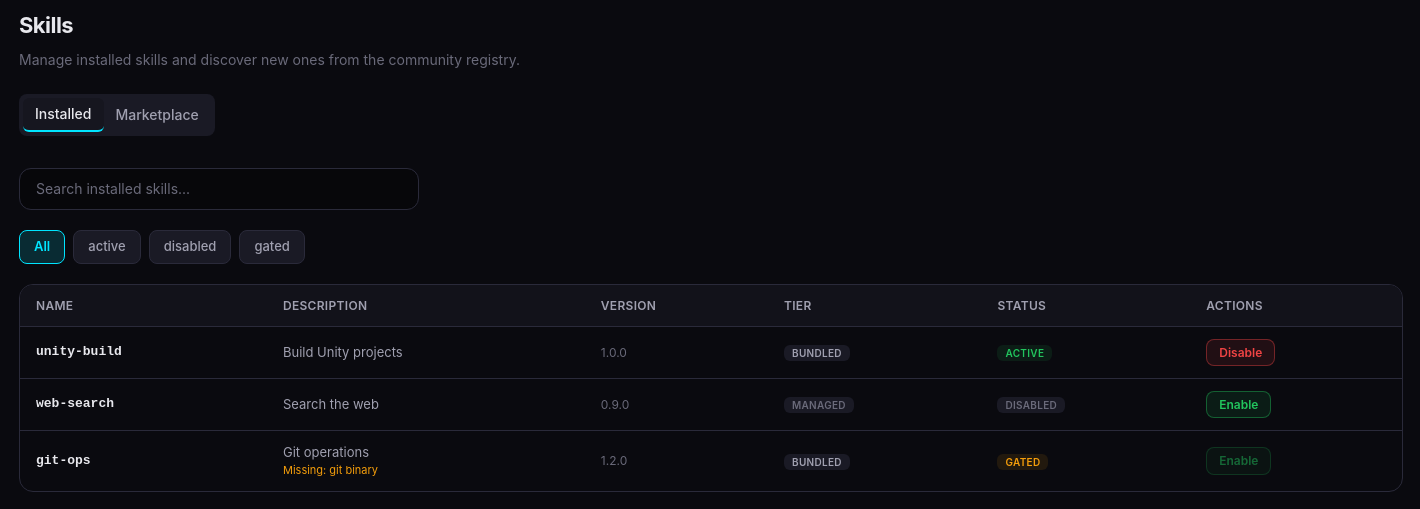
SkillsPage › shows "no match" message when filter yields no results
The image size is (1420, 509).
In the field with placeholder "Search installed skills...": coordinates (219, 189) [19,168,419,210], type "xyznonexistent"
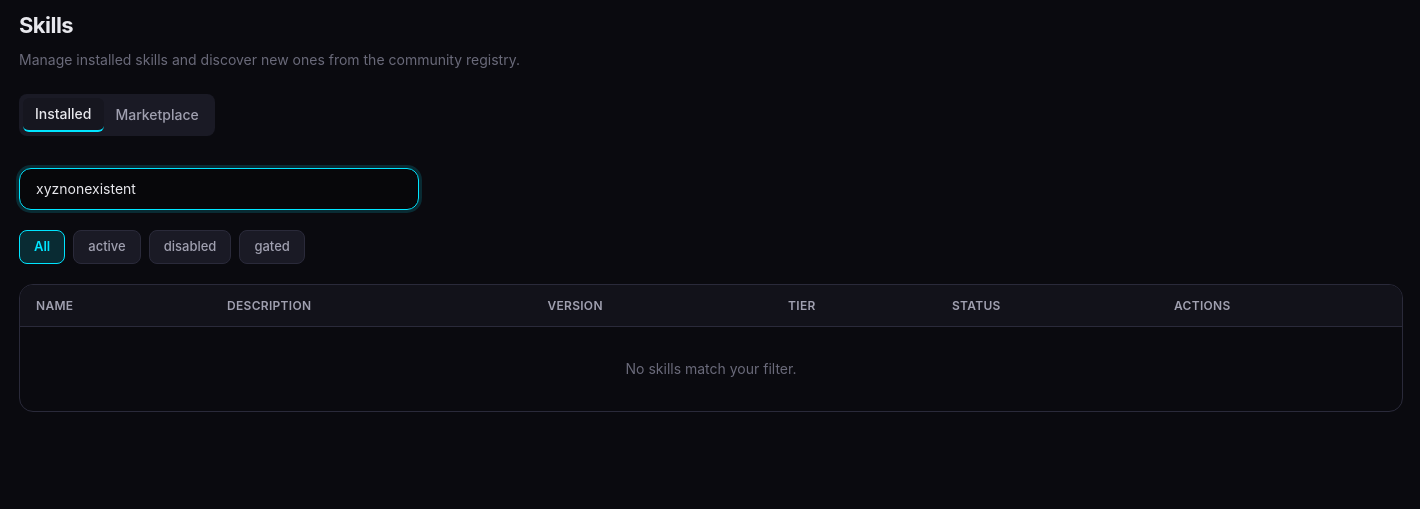
Check: the text "No skills match your filter." is shown, box [626,360,796,377]
